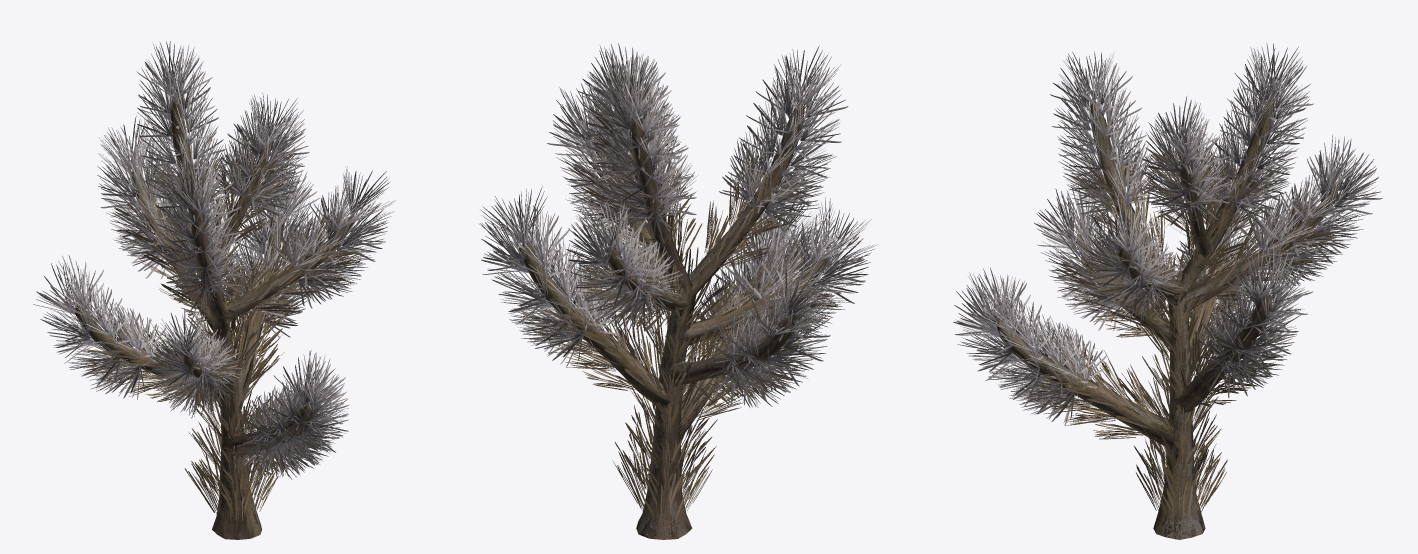
The model's file is plant-1.glb.
3 views of the same model, side by side, from view 1: azimuth 30°, elevation 25°; view 2: azimuth 150°, elevation 25°; view 3: azimuth 270°, elevation 25° (orthographic). The views are drawn at different scales.
Parts seen in each view (by area): view 1: cholla 01_9_cholla 01_9Mat_0.469; view 2: cholla 01_9_cholla 01_9Mat_0.469; view 3: cholla 01_9_cholla 01_9Mat_0.469.
Part boxes in pixels (box(x1,y1,x2,y2)): cholla 01_9_cholla 01_9Mat_0.469: box(33, 41, 394, 539); cholla 01_9_cholla 01_9Mat_0.469: box(479, 43, 878, 539); cholla 01_9_cholla 01_9Mat_0.469: box(953, 43, 1382, 539).
Bounding box in the file's own units: 0.9035 × 1.22 × 1.06.
3 materials, 3 textured.
